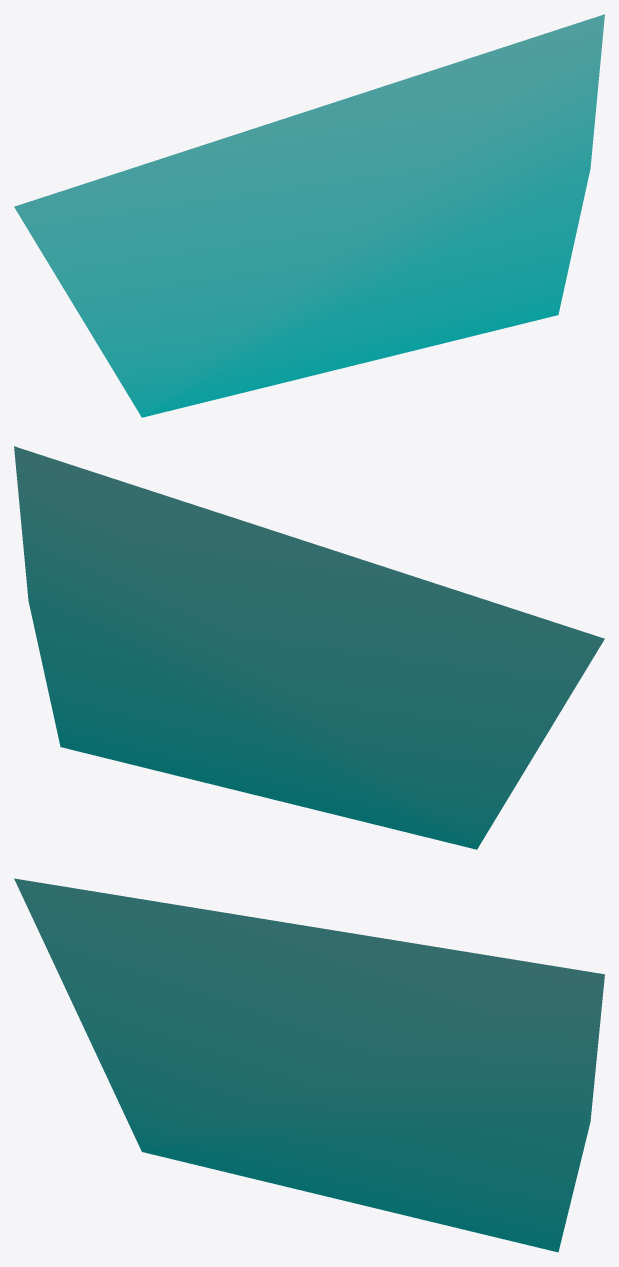
File: Matted_Pratia_uegjcflia_Mid_uegjcflia_VarG_LOD2.fbx
3 renders of one model, top to bottom at view 1: azimuth 30°, elevation 25°; view 2: azimuth 150°, elevation 25°; view 3: azimuth 330°, elevation 25°, orthographic.
Visible parts, largest first — view 1: _76cc_VarG_LOD3; view 2: _76cc_VarG_LOD3; view 3: _76cc_VarG_LOD3.
Part boxes in pixels (x1,y1,x2,y2): _76cc_VarG_LOD3: (14, 14, 604, 417); _76cc_VarG_LOD3: (14, 446, 604, 849); _76cc_VarG_LOD3: (14, 878, 604, 1252).
Size of the model in its own units: 17.49 by 8.22 by 0.
